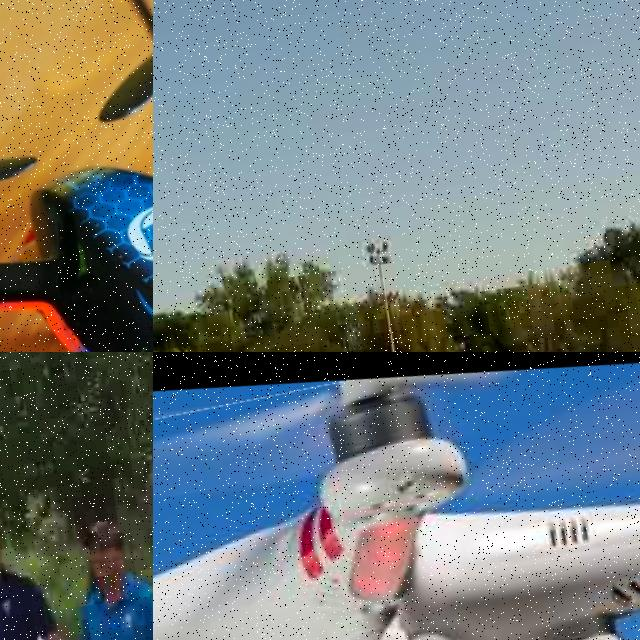drone: (153, 352, 640, 640), (0, 0, 153, 352)
